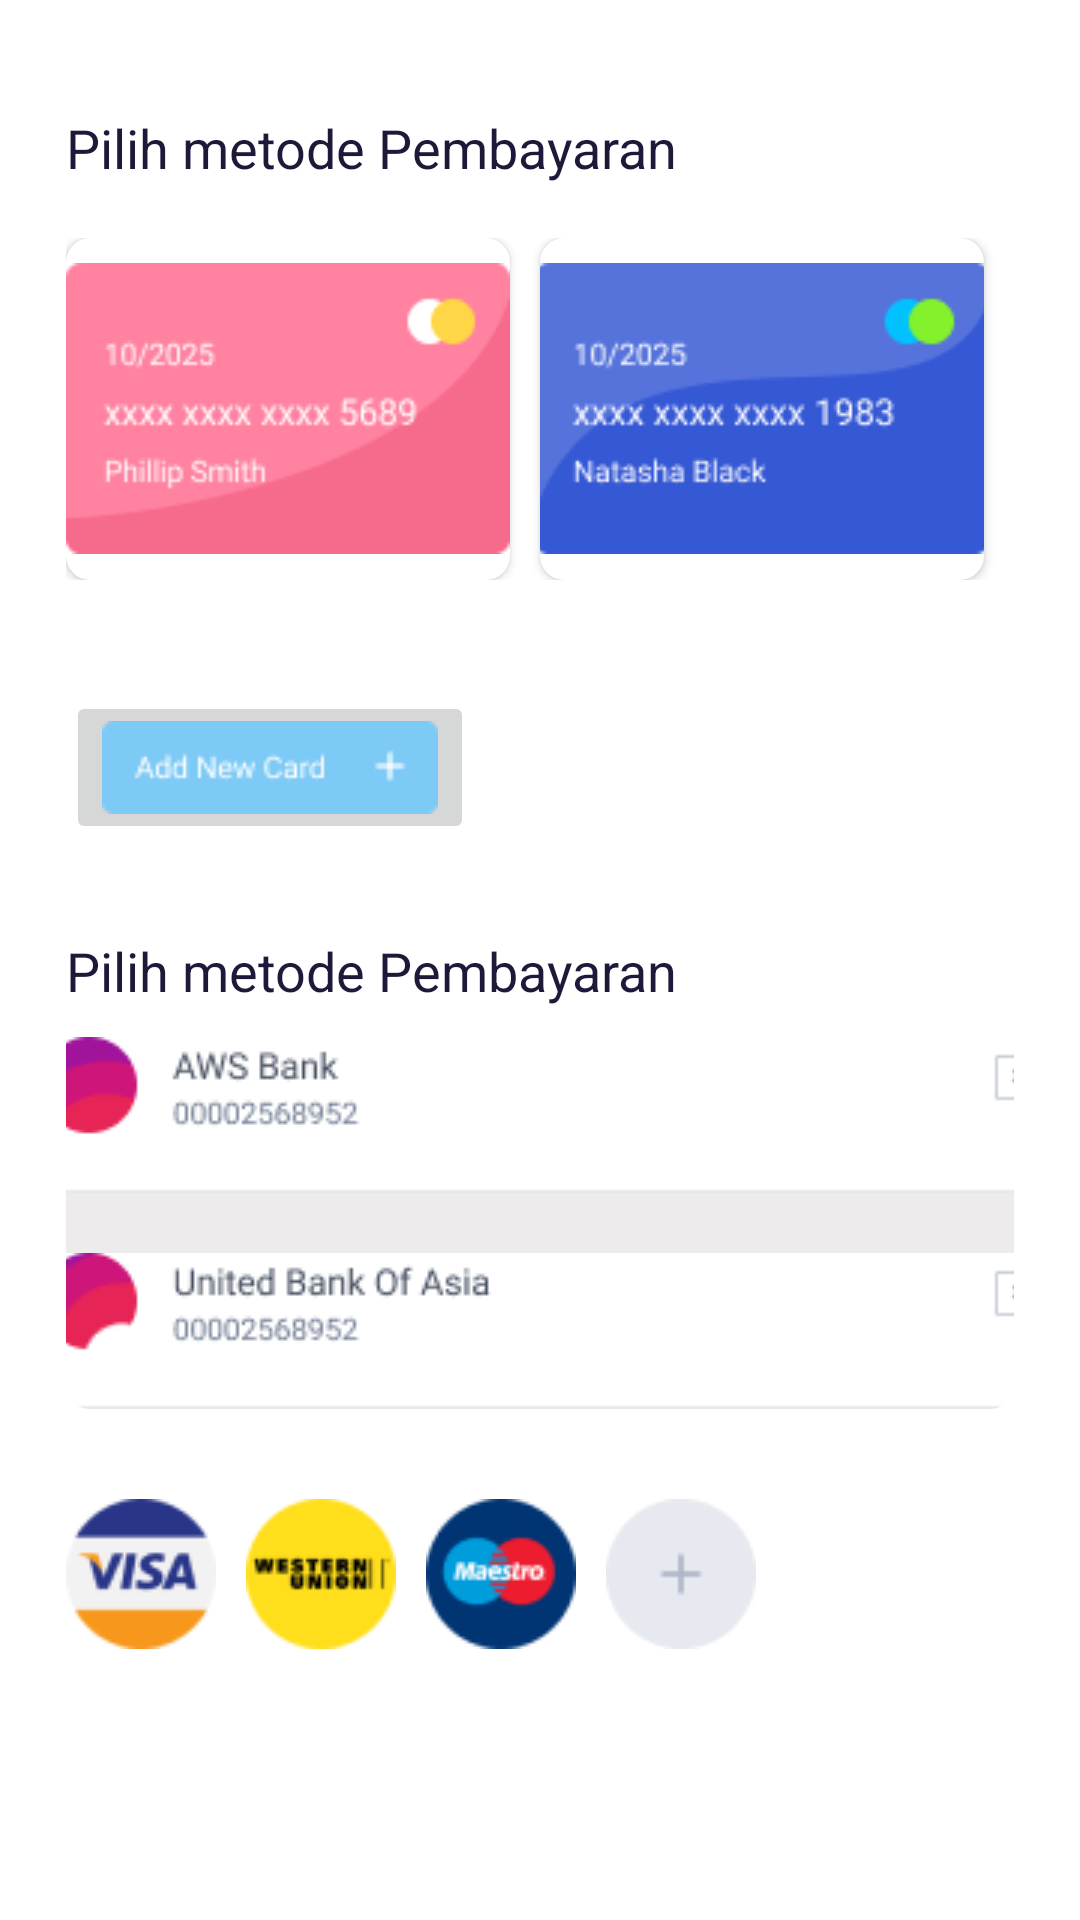

Icon bounding boxes for this 1080x1920 phone screenshot, format [x1,y1,x2,y2]:
add: [606,1499,756,1649]
